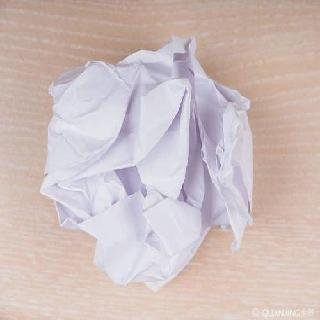8/可回收垃圾/纸: (38, 33, 256, 294)
